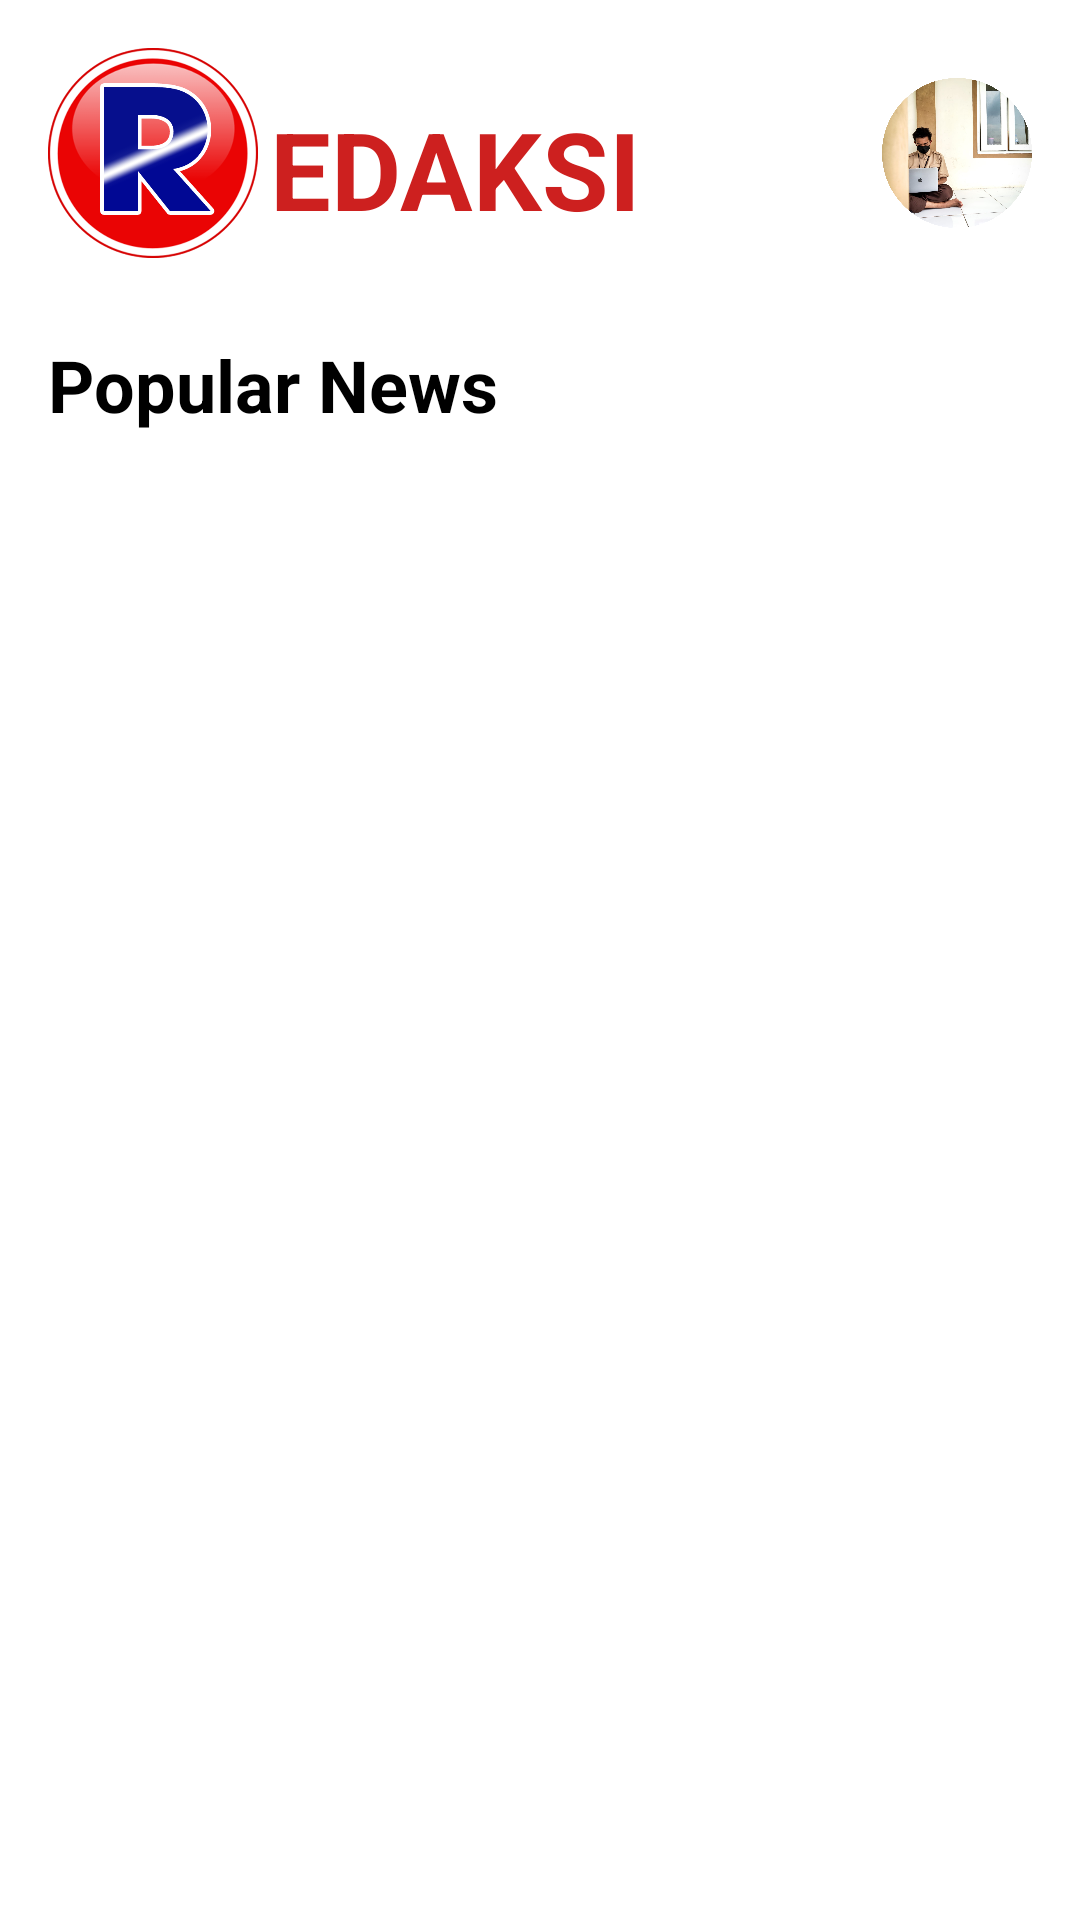

Screen size 1080w x 1920h. Icon name, then its box in pixels as {"left": x1, "top": y1, "right": x2, "bottom": y2}:
profile: {"left": 882, "top": 78, "right": 1032, "bottom": 227}
